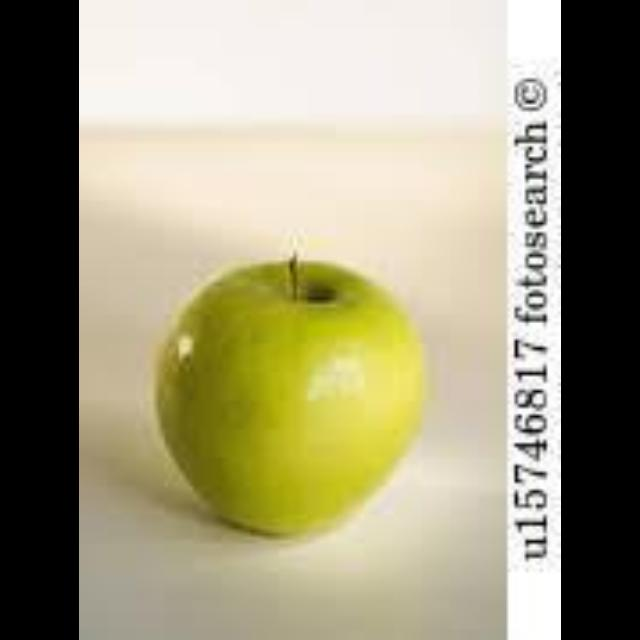apple: (154, 254, 422, 533)
